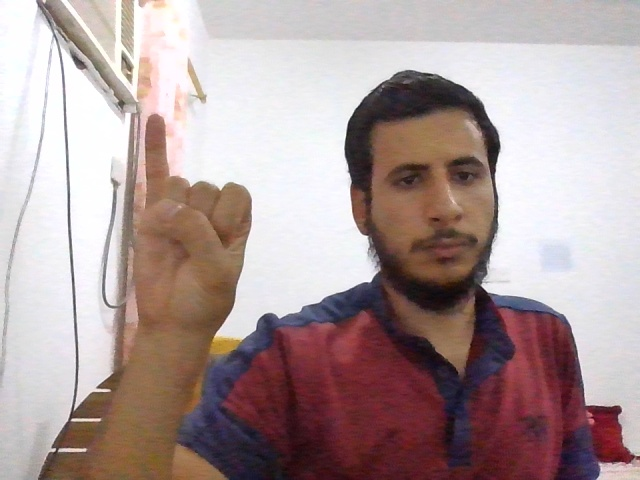One: (133, 113, 252, 328)
